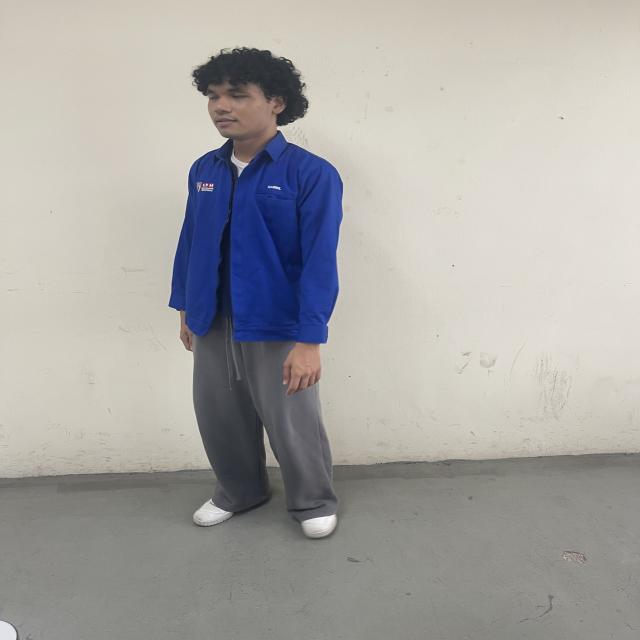person_with_labcoat: (169, 48, 343, 539)
